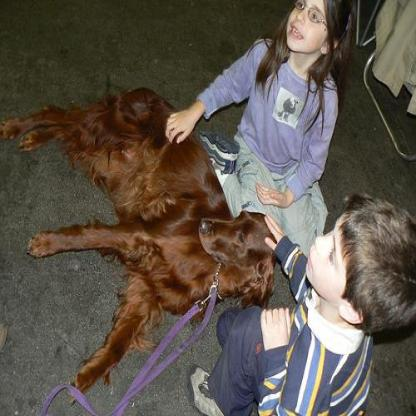Irish_setter: (2, 84, 278, 407)
